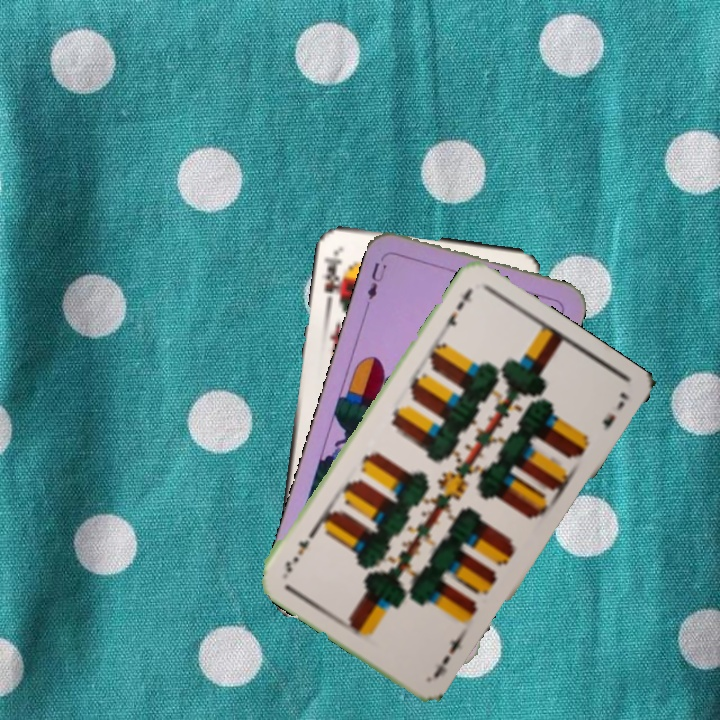E7: (429, 627, 469, 681), (437, 284, 475, 337)
EU: (362, 258, 389, 308)
SK: (319, 247, 347, 307)
